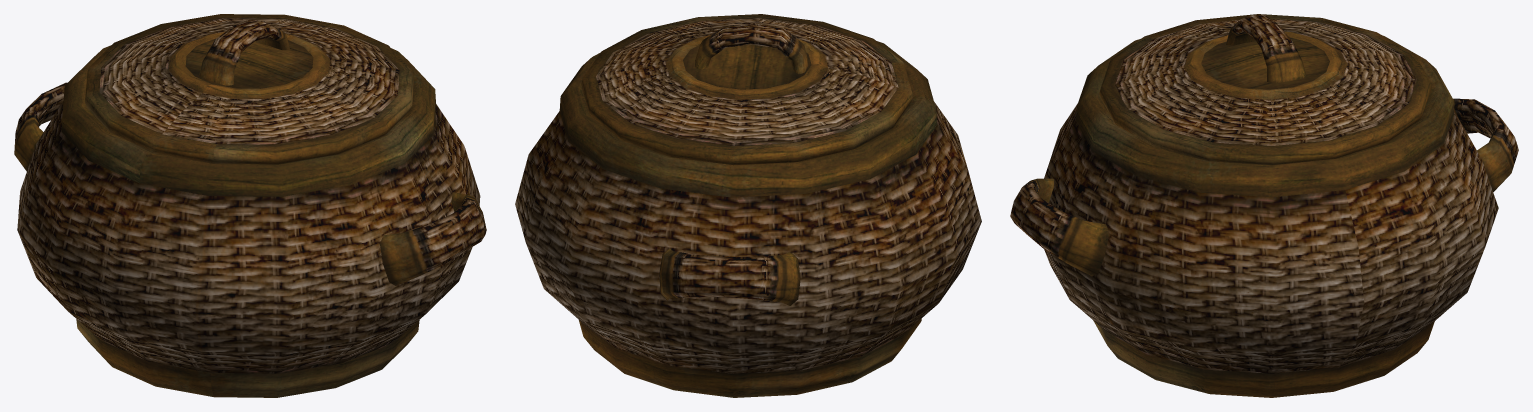
The model's file is straw_basket_B.FBX.
3 views of the same model, side by side, from view 1: azimuth 30°, elevation 25°; view 2: azimuth 150°, elevation 25°; view 3: azimuth 270°, elevation 25° (orthographic).
Visible parts, largest first — view 1: straw_basket_B, straw_basket_B_cover; view 2: straw_basket_B, straw_basket_B_cover; view 3: straw_basket_B, straw_basket_B_cover.
Part boxes in pixels (left/top/right/bottom): straw_basket_B: left=14, top=45, right=486, bottom=397; straw_basket_B_cover: left=85, top=14, right=414, bottom=164; straw_basket_B: left=515, top=41, right=981, bottom=397; straw_basket_B_cover: left=581, top=14, right=913, bottom=164; straw_basket_B: left=1010, top=35, right=1518, bottom=397; straw_basket_B_cover: left=1099, top=14, right=1431, bottom=164.
Size of the model in its own units: 44.49 by 31.93 by 48.43.
